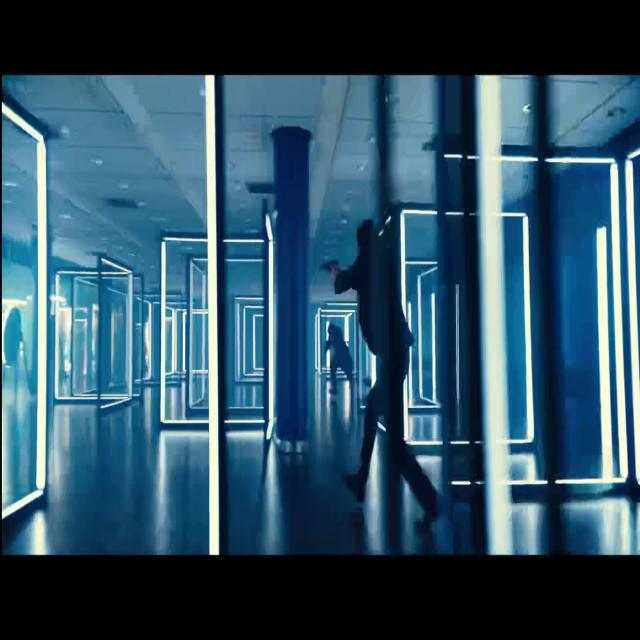weapons: (310, 234, 347, 300)
